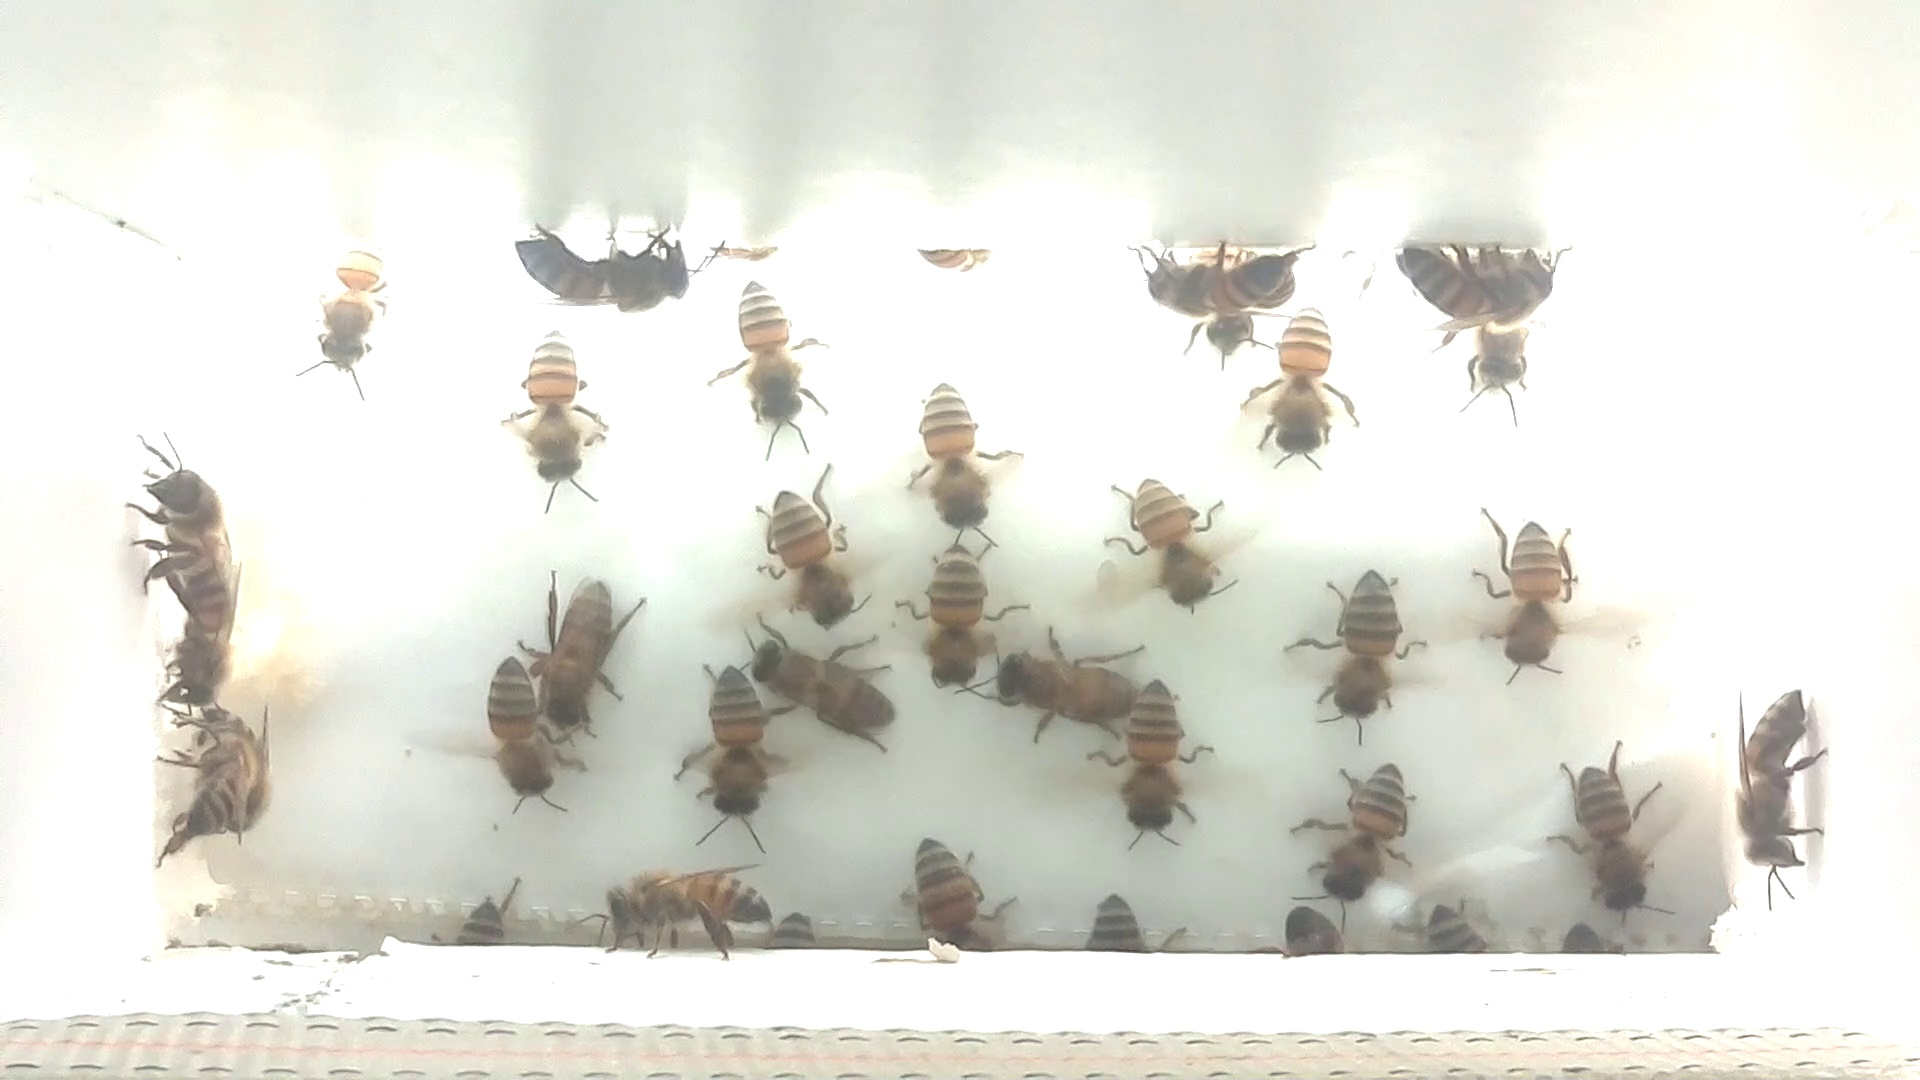bee: (1702, 659, 1840, 913), (1449, 487, 1613, 694), (1068, 651, 1230, 851), (880, 360, 1039, 555), (684, 273, 851, 456), (1286, 546, 1433, 752), (976, 595, 1171, 749), (1536, 727, 1684, 930), (560, 839, 789, 967), (1087, 456, 1250, 632), (884, 524, 1038, 705), (484, 320, 626, 516), (659, 645, 795, 848), (1276, 731, 1423, 916), (491, 204, 724, 320), (740, 456, 886, 640), (742, 603, 913, 756), (120, 425, 255, 616), (281, 225, 413, 413), (465, 647, 604, 825), (516, 556, 649, 741), (1246, 294, 1373, 480), (140, 709, 287, 860), (1381, 229, 1569, 343), (884, 822, 1030, 965), (1121, 233, 1303, 328), (1437, 303, 1553, 443), (142, 588, 237, 723), (421, 860, 535, 953), (1063, 878, 1178, 967), (1259, 895, 1367, 968), (1400, 895, 1495, 968)
